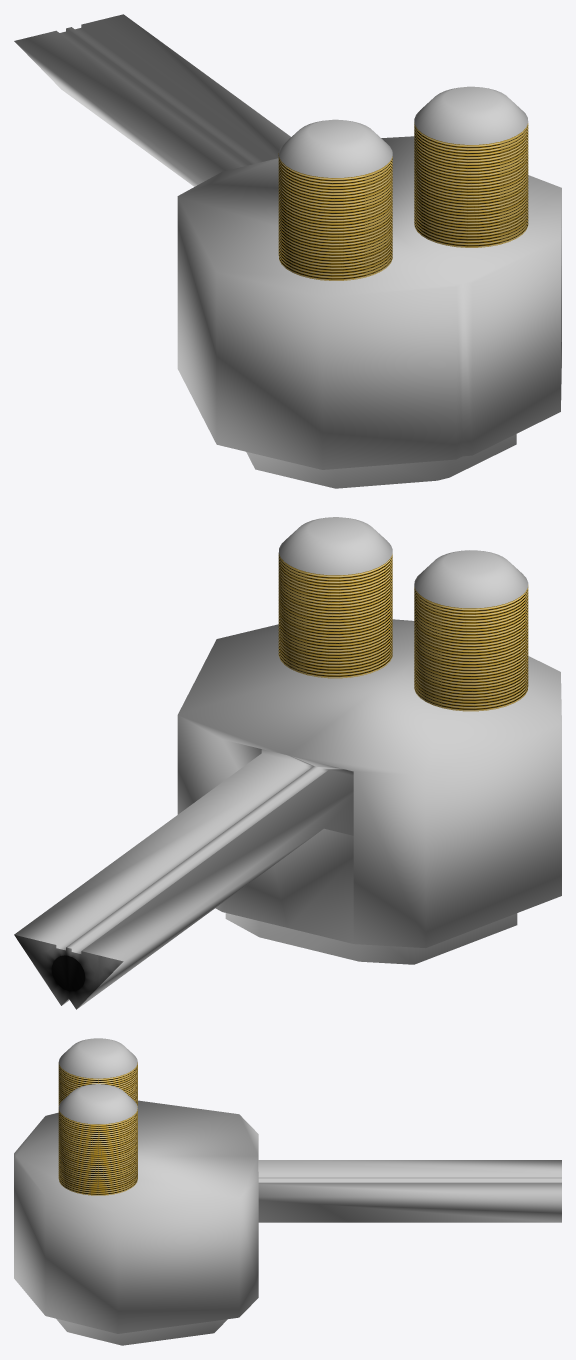
The model's file is railgun.fbx.
3 views of the same model, one above another, from view 1: azimuth 30°, elevation 25°; view 2: azimuth 150°, elevation 25°; view 3: azimuth 270°, elevation 25° (orthographic). The views are drawn at different scales.
Visible parts, largest first — view 1: Rail_gun; view 2: Rail_gun; view 3: Rail_gun.
Part boxes in pixels (left/top/right/bottom): Rail_gun: left=14, top=14, right=561, bottom=488; Rail_gun: left=14, top=517, right=561, bottom=1009; Rail_gun: left=14, top=1038, right=561, bottom=1345.
Size of the model in its own units: 3.14 by 2.91 by 6.23.
